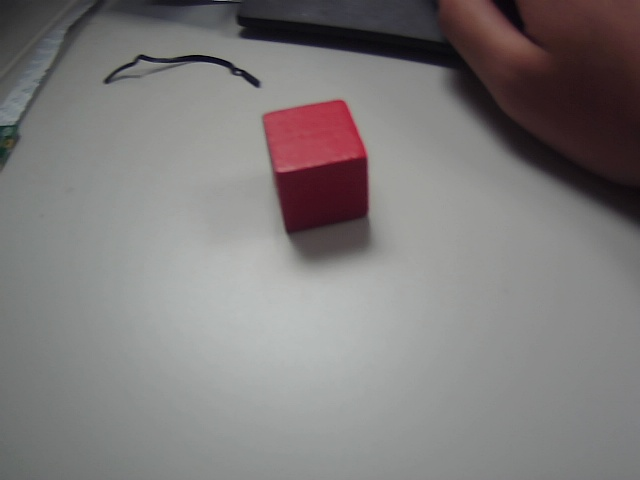redbox: (257, 95, 389, 240)
